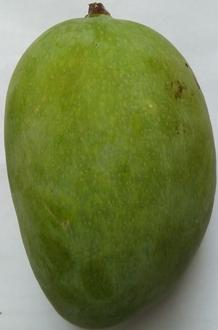Unripe: (1, 0, 218, 330)
